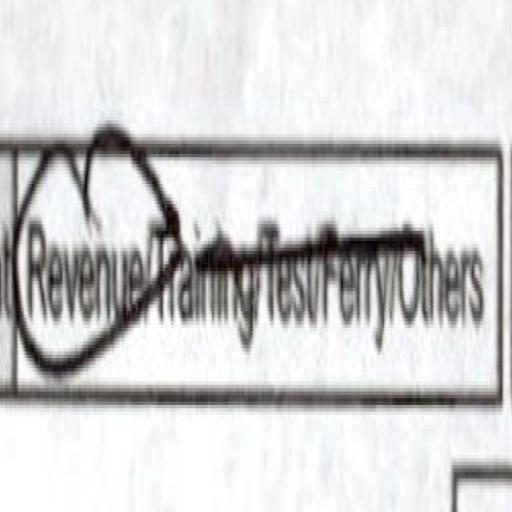check: (8, 80, 146, 420)
